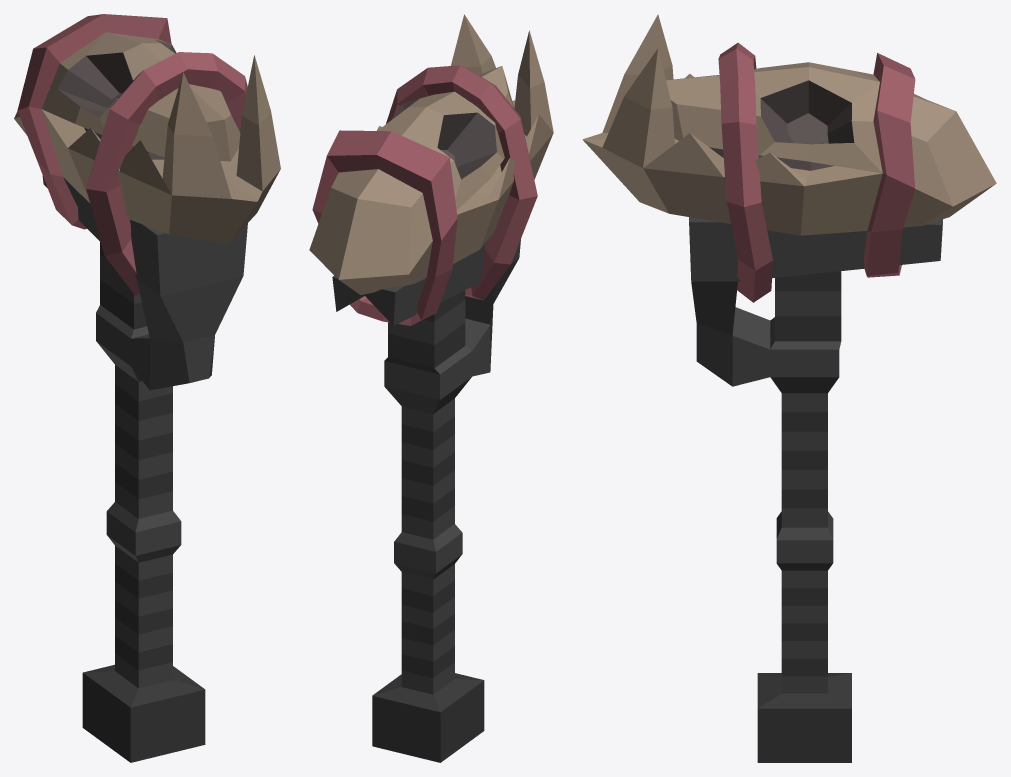
The model's file is BoneClub.fbx.
3 renders of one model, left to right at view 1: azimuth 30°, elevation 25°; view 2: azimuth 150°, elevation 25°; view 3: azimuth 270°, elevation 25°, orthographic. The views are drawn at different scales.
Visible parts, largest first — view 1: BoneClub:Mesh; view 2: BoneClub:Mesh; view 3: BoneClub:Mesh.
Boxes of the visible parts, bbox=[...] form: BoneClub:Mesh: bbox=[14, 14, 280, 762]; BoneClub:Mesh: bbox=[309, 14, 553, 762]; BoneClub:Mesh: bbox=[582, 14, 996, 762].
Bounding box in the file's own units: 0.3755 × 1.47 × 0.7748.
